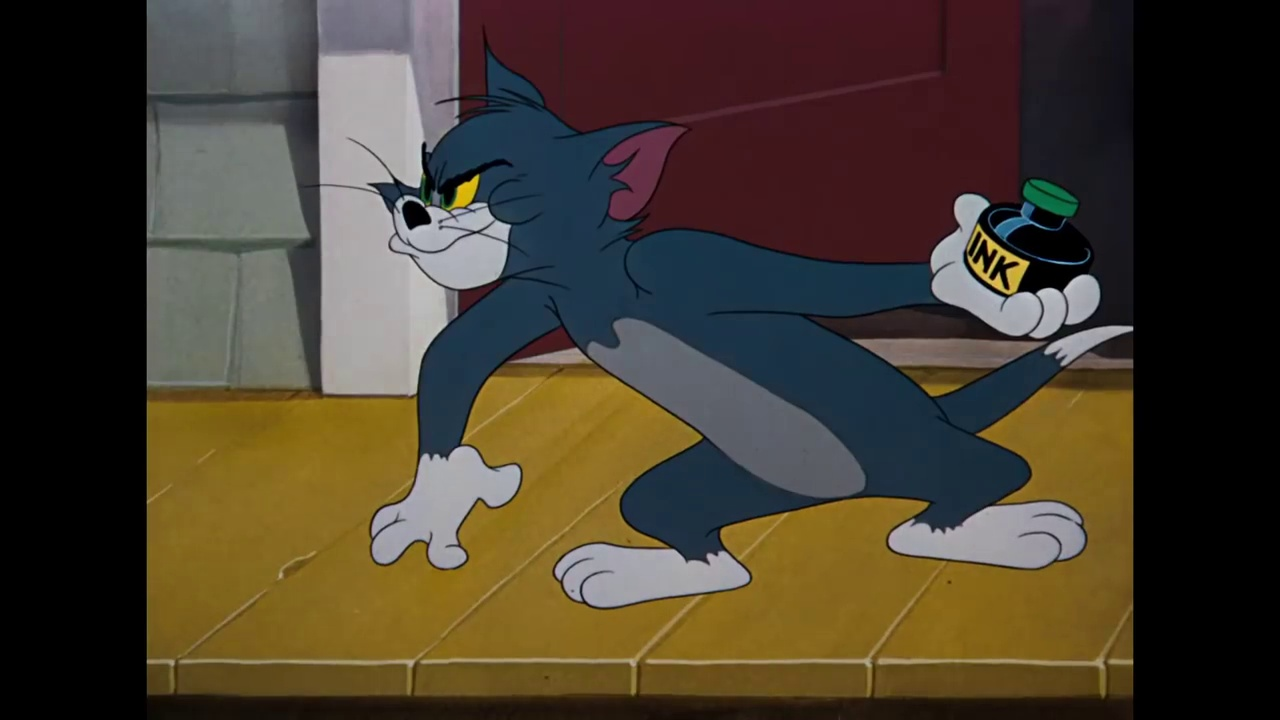tom: (363, 25, 691, 293)
